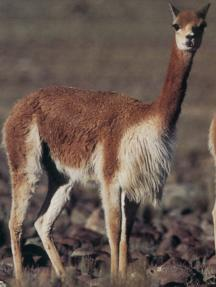eye: (171, 21, 182, 35), (203, 21, 210, 33)
mouth: (184, 40, 202, 52)
